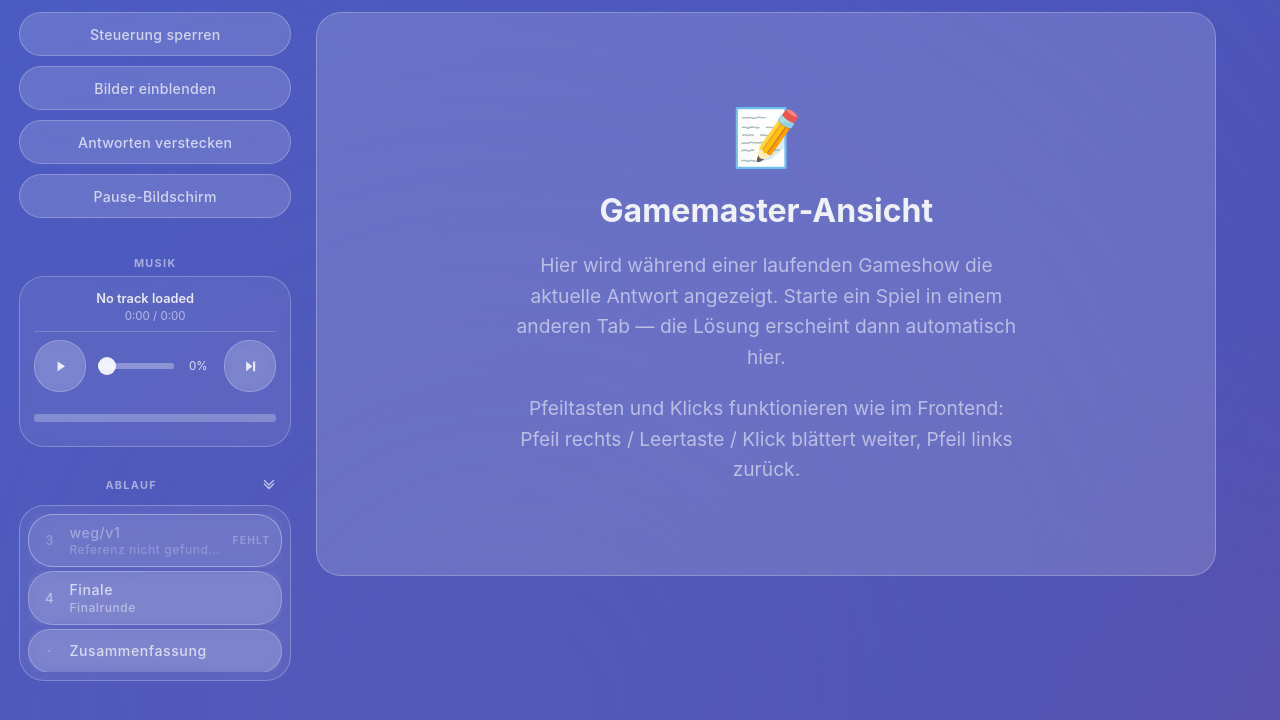
Gamemaster run-of-show — jumping › asks for confirmation and sends goto:game-<index> on confirm
(page scrolled)
Click the button "4 Finale Finalrunde".
click(155, 598)  # box [28,571,282,625]
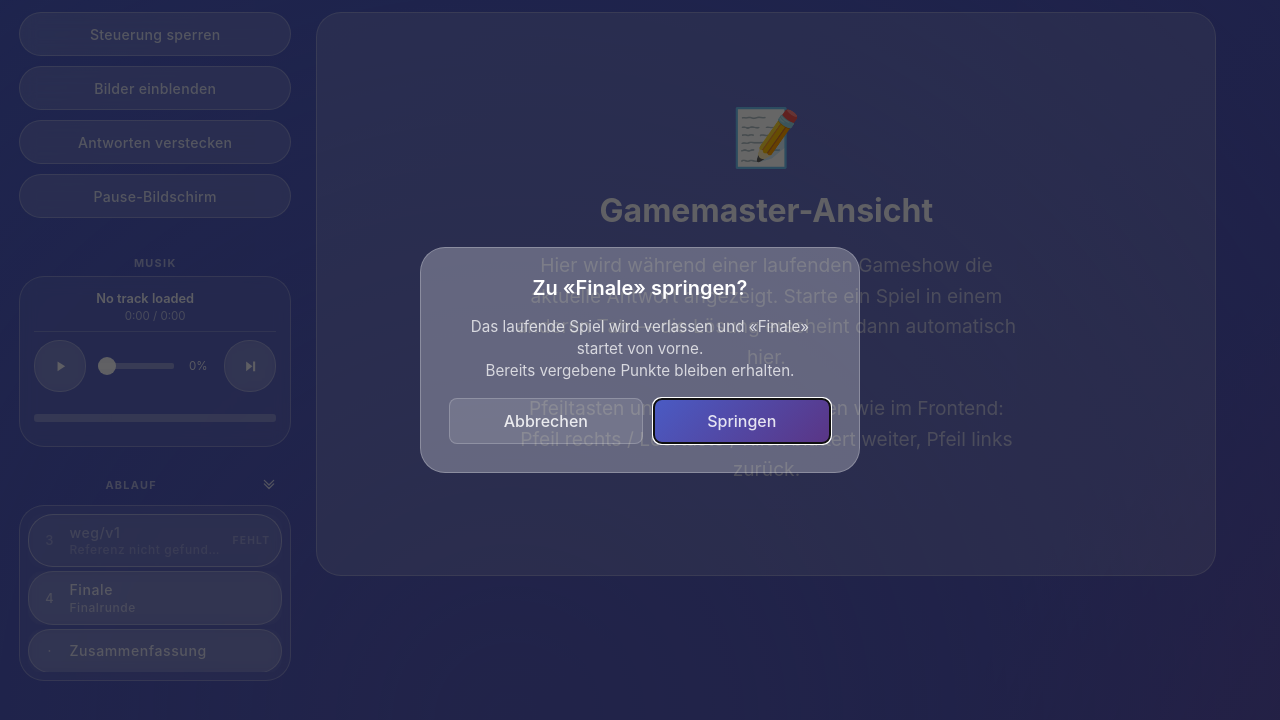
Now the dialog shows "Zu «Finale» springen?", box [532,276,748,300]
Click the button "Springen".
click(742, 421)  # box [653,398,831,444]
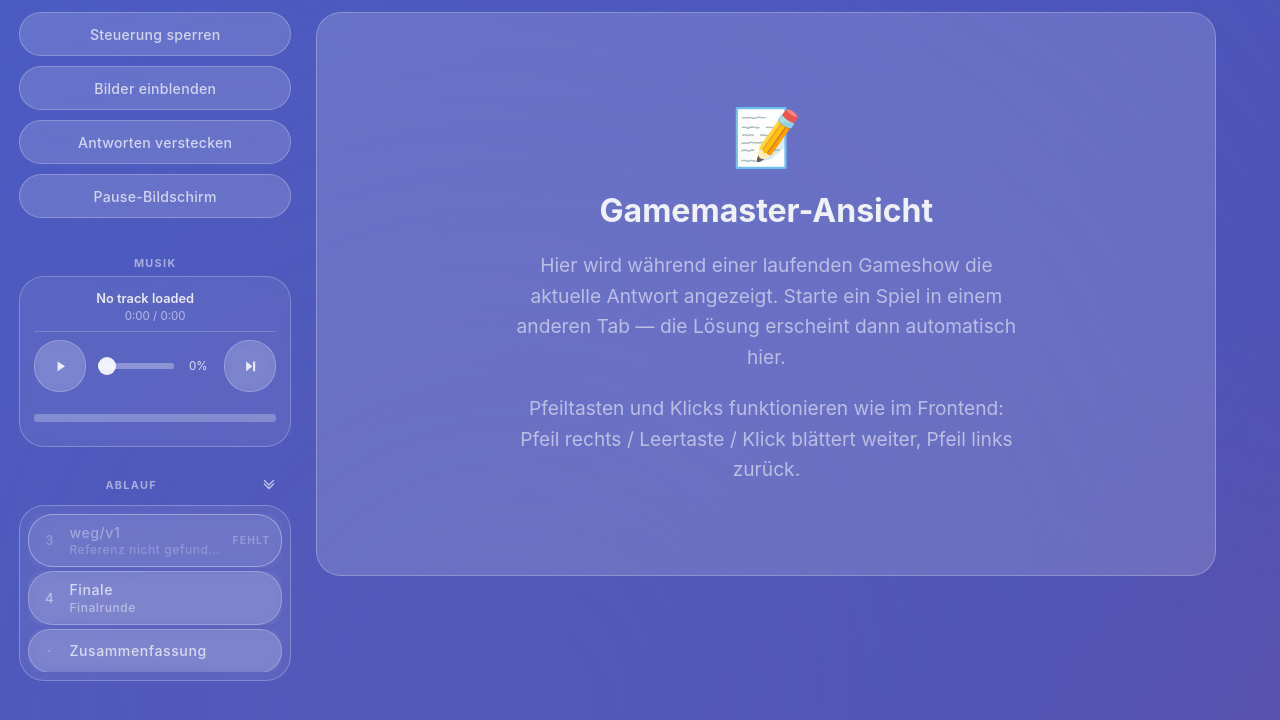
Now the dialog is gone
